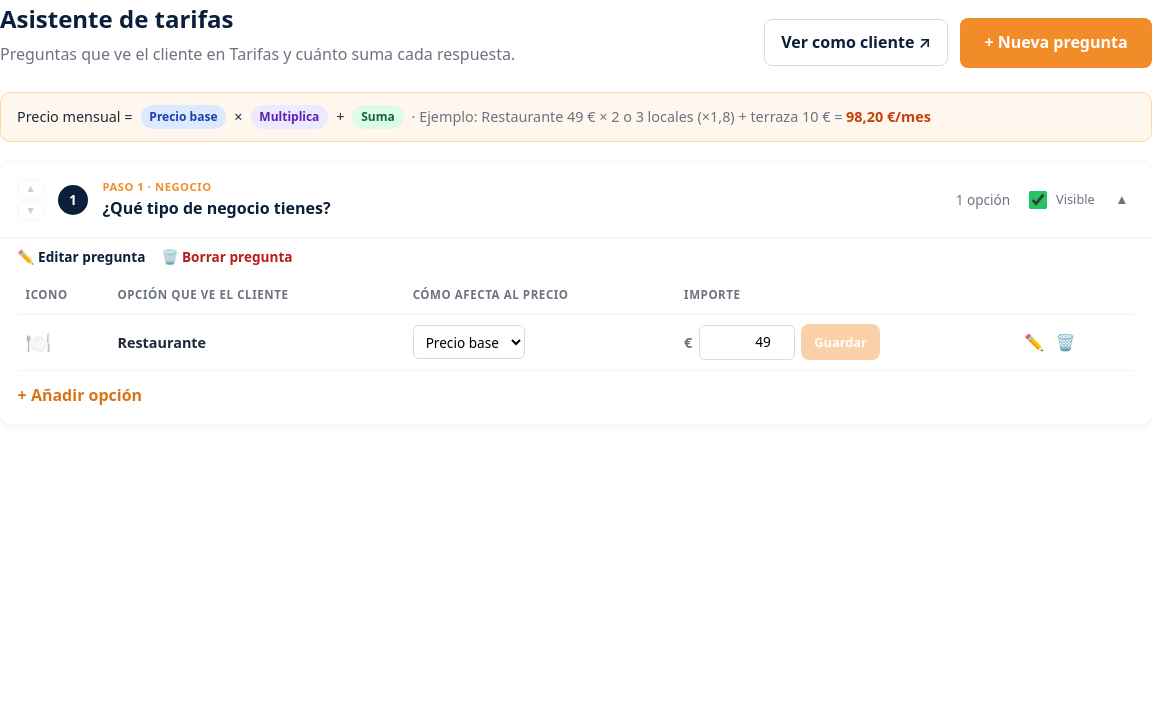
Test: admin screens › Tarifas: asks before deleting a question
The image size is (1152, 720).
Click the button "🗑️ Borrar pregunta": (227, 257) [161, 246, 293, 268]
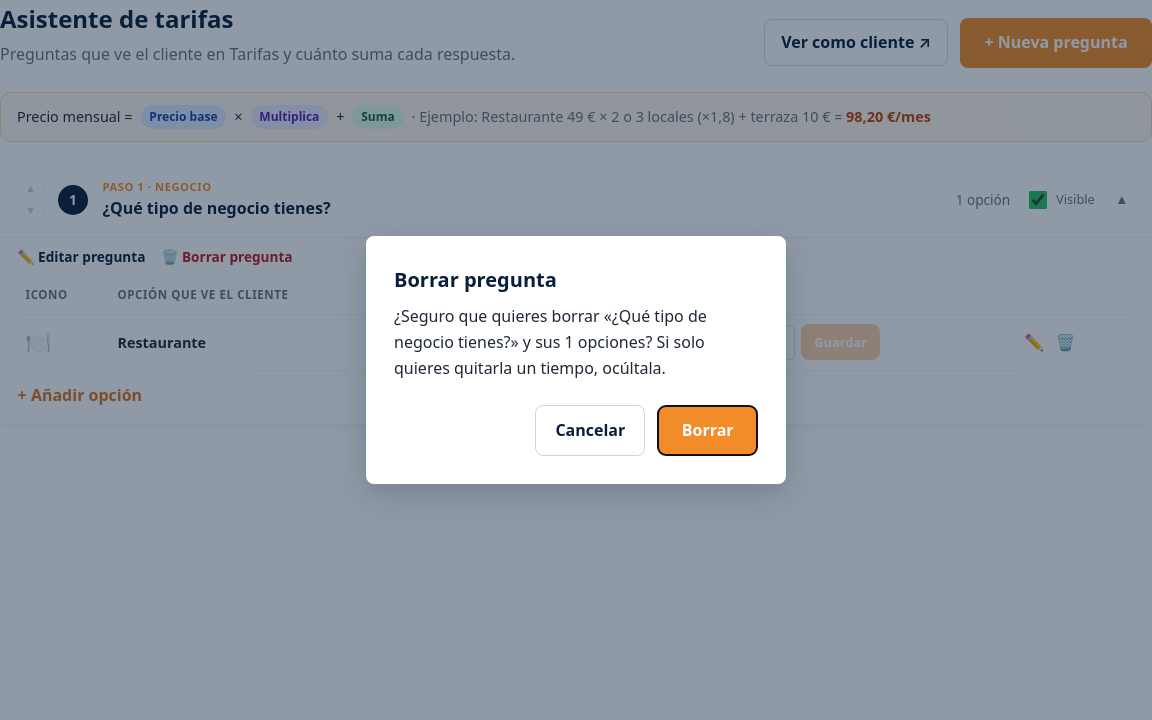
Click the button with class "confirm-dialog__confirm": (708, 430) [657, 405, 758, 456]
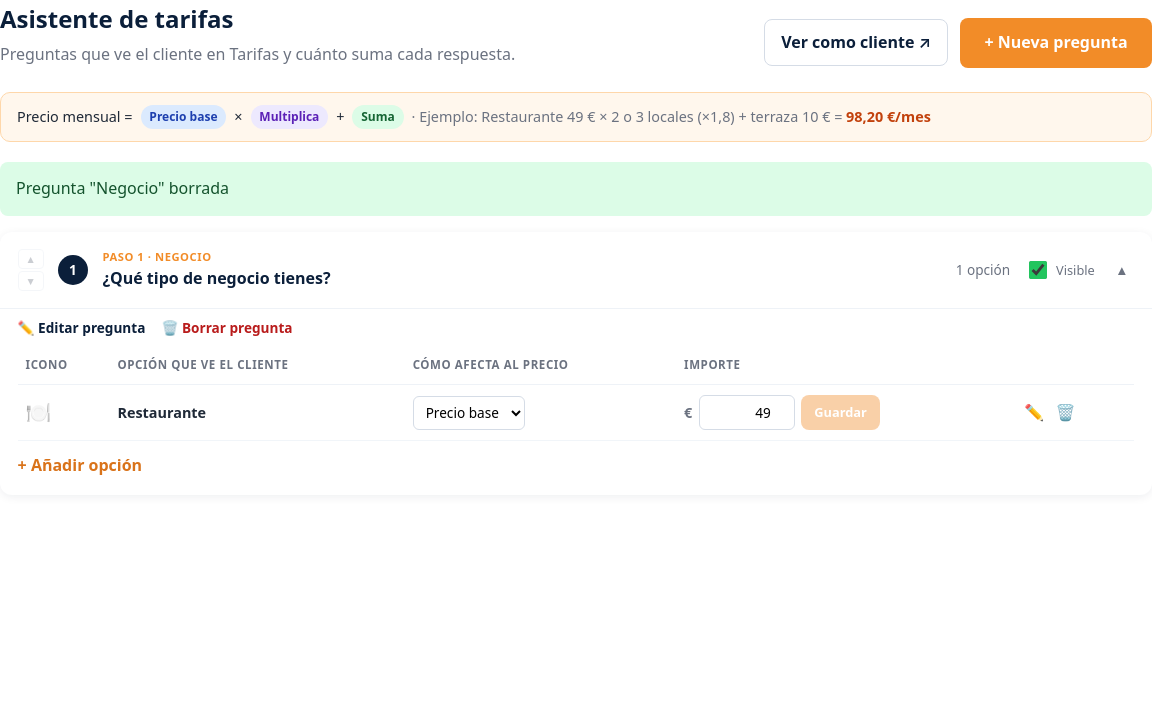
expect the message "Pregunta \"Negocio\" borrada" reads "Pregunta \"Negocio\" borrada": met, box [16, 177, 229, 199]
